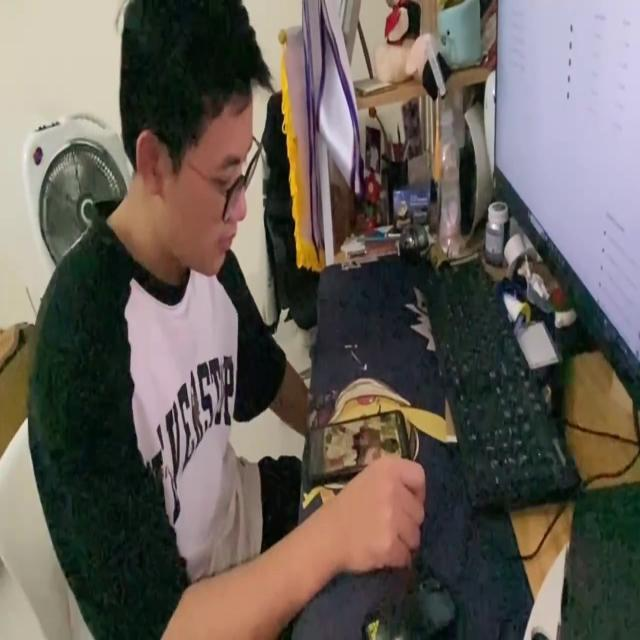laptop: (493, 0, 640, 403)
phone: (303, 406, 411, 480)
student: (29, 0, 428, 640)
